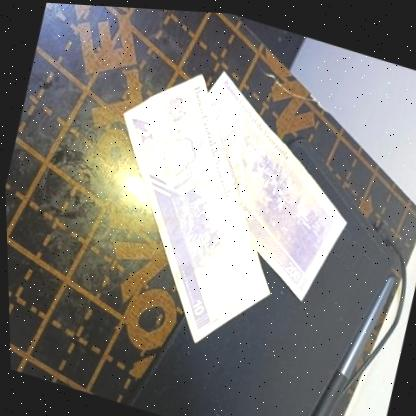ten-back-vef: (71, 48, 318, 361)
two_hundred-back-vef: (163, 61, 376, 308)
